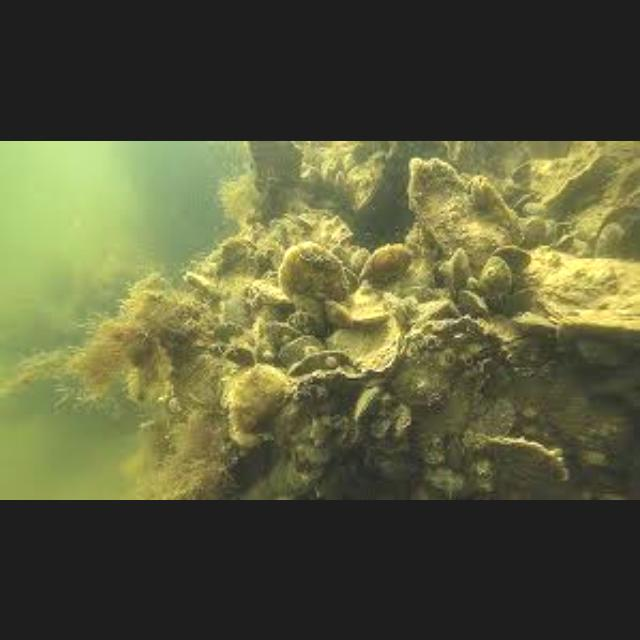Oyster-Closed: (406, 157, 520, 269), (526, 245, 640, 329), (221, 364, 291, 448), (476, 424, 570, 486), (326, 315, 402, 371), (279, 242, 347, 298), (595, 185, 640, 258), (325, 286, 395, 328), (359, 242, 413, 286), (452, 281, 500, 325), (208, 236, 258, 278), (240, 276, 294, 310), (572, 202, 614, 244), (379, 288, 426, 324), (288, 350, 352, 376), (439, 248, 471, 294), (278, 334, 324, 364), (479, 256, 513, 294), (281, 305, 327, 333), (512, 312, 560, 336), (263, 321, 307, 347), (492, 245, 532, 273), (179, 272, 225, 296), (353, 385, 381, 421), (414, 300, 456, 324), (517, 212, 543, 245), (558, 232, 576, 254)
